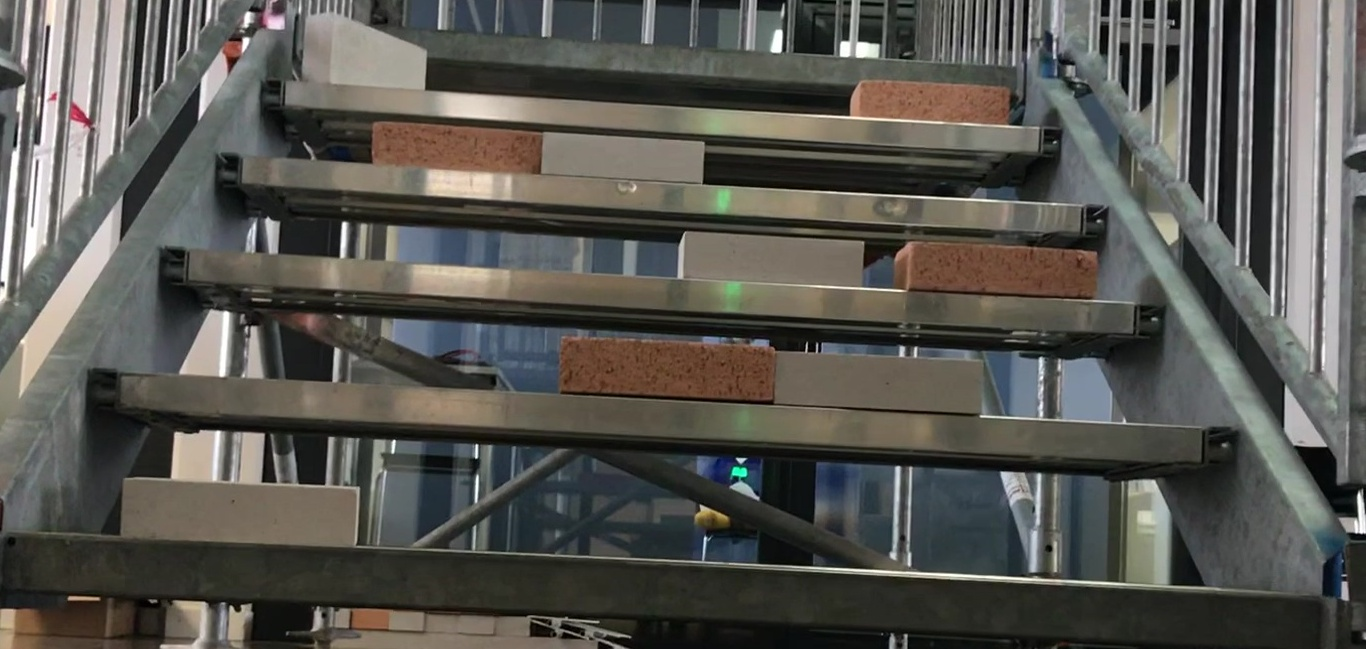brick: (121, 476, 357, 545), (560, 339, 772, 403), (776, 351, 981, 415), (897, 242, 1098, 297), (677, 232, 862, 285), (305, 13, 426, 89), (373, 123, 542, 176), (544, 135, 702, 183), (852, 79, 1007, 123)
edge: (10, 529, 1331, 649), (93, 363, 1235, 476), (155, 241, 1162, 344), (215, 150, 1105, 241), (264, 76, 1059, 159), (290, 12, 1025, 96)
